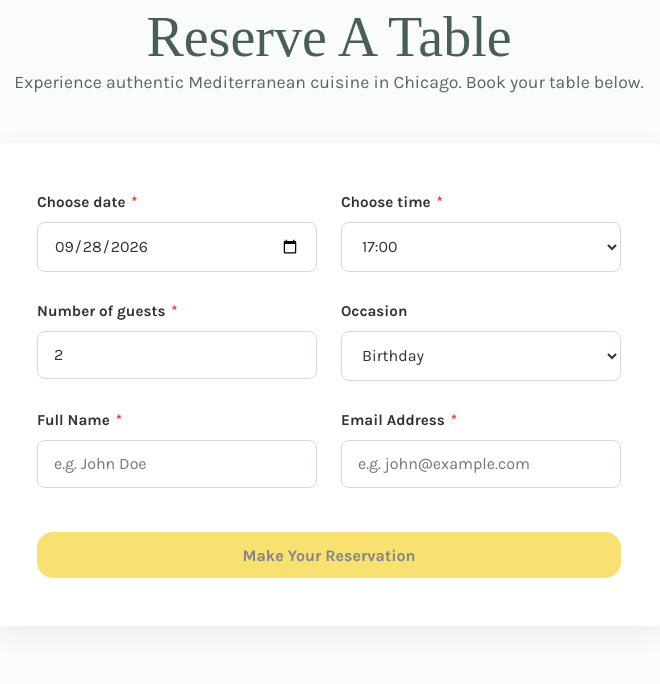
Mock API integration and submission handling › displays server error banner when submission fails
The width and height of the screenshot is (660, 684).
Type "Bob Martin" into the field labelled "Full Name *" at [177, 464], box x1=37 y1=440 x2=317 y2=488
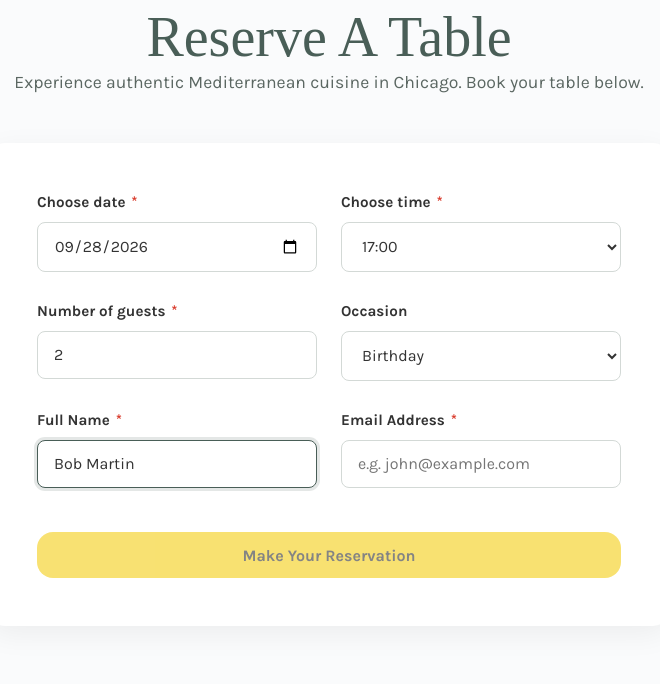
Type "bob@example.com" into the field labelled "Email Address *" at [481, 464], box x1=341 y1=440 x2=621 y2=488
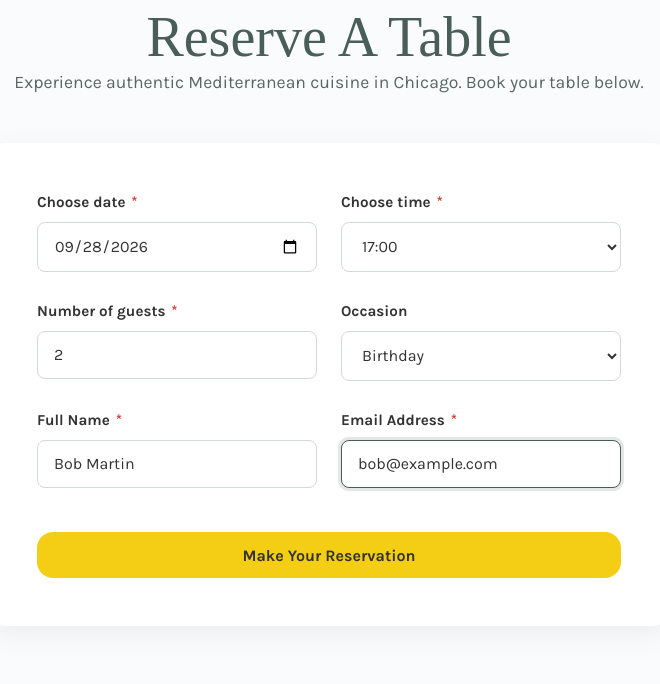
Click the button with aria-label "confirm table reservation" at [329, 555], box x1=37 y1=532 x2=621 y2=578
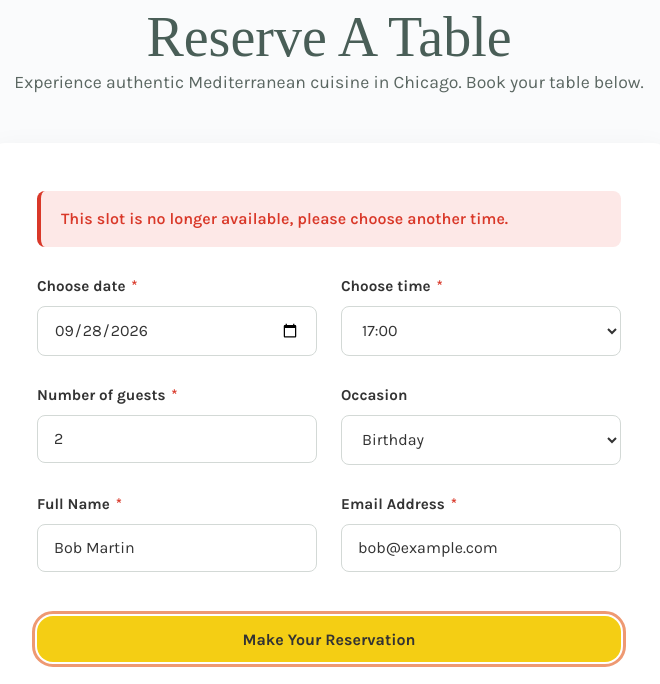
Result: the text "This slot is no longer available, please choose another time." is shown at x1=37 y1=191 x2=621 y2=247
